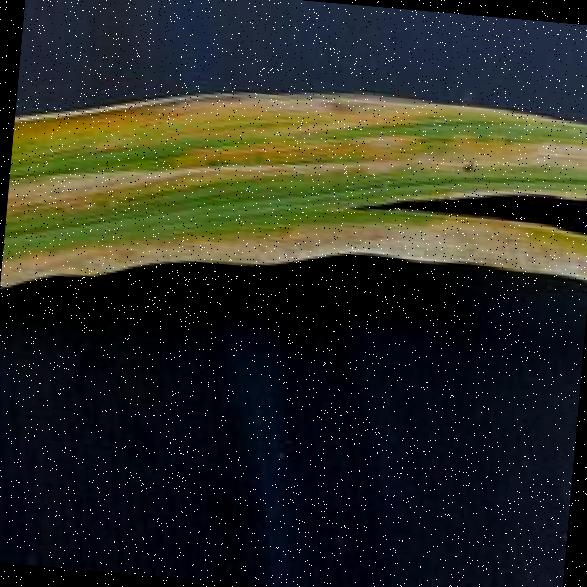Bacteria_Leaf_Blight: (19, 58, 587, 287)
